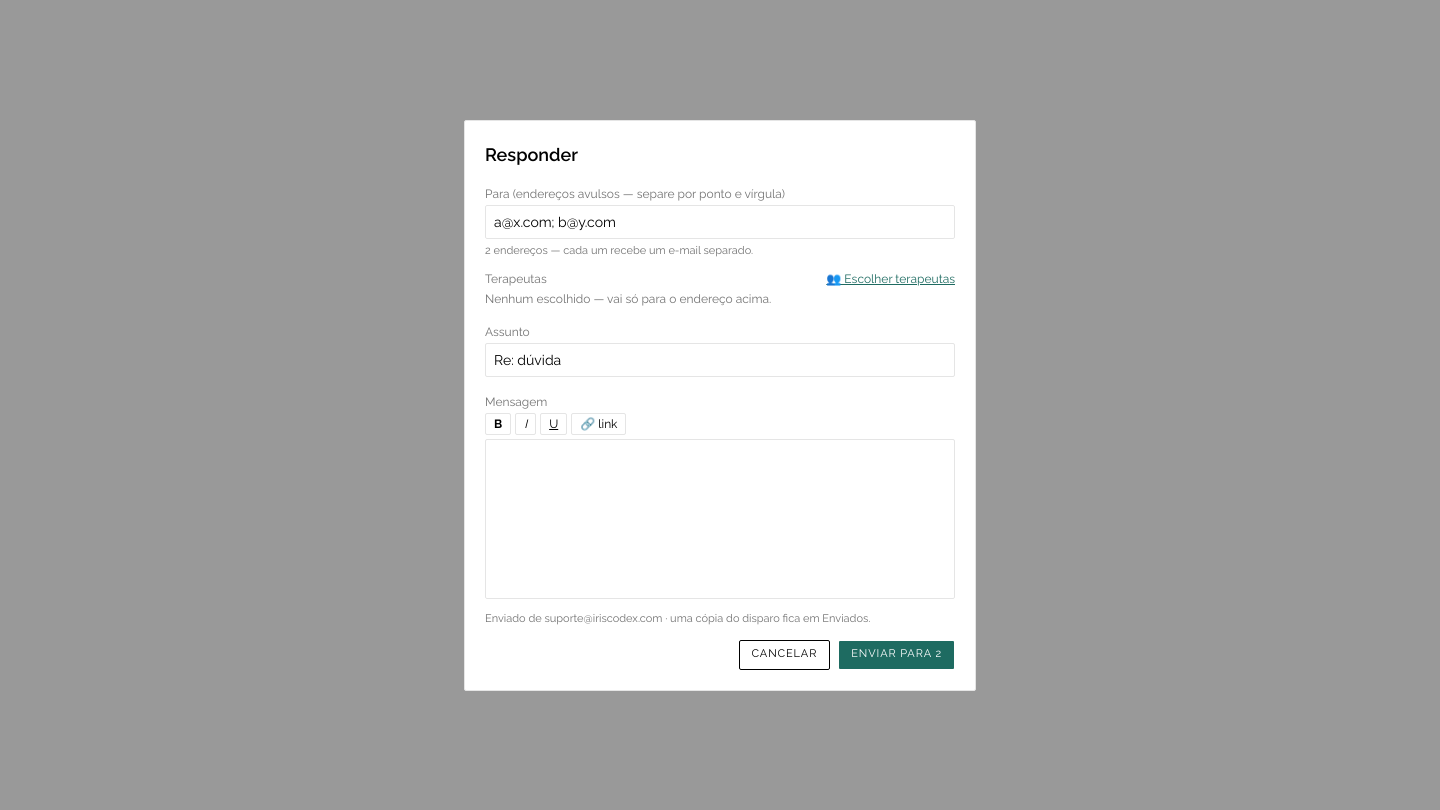
ComposeForm — vários endereços no campo Para › endereços avulsos somam com os terapeutas escolhidos
Expected: the text box is shown, [485,439,955,599]
Click the button "👥 Escolher terapeutas".
click(891, 279)  # box [826,271,955,287]
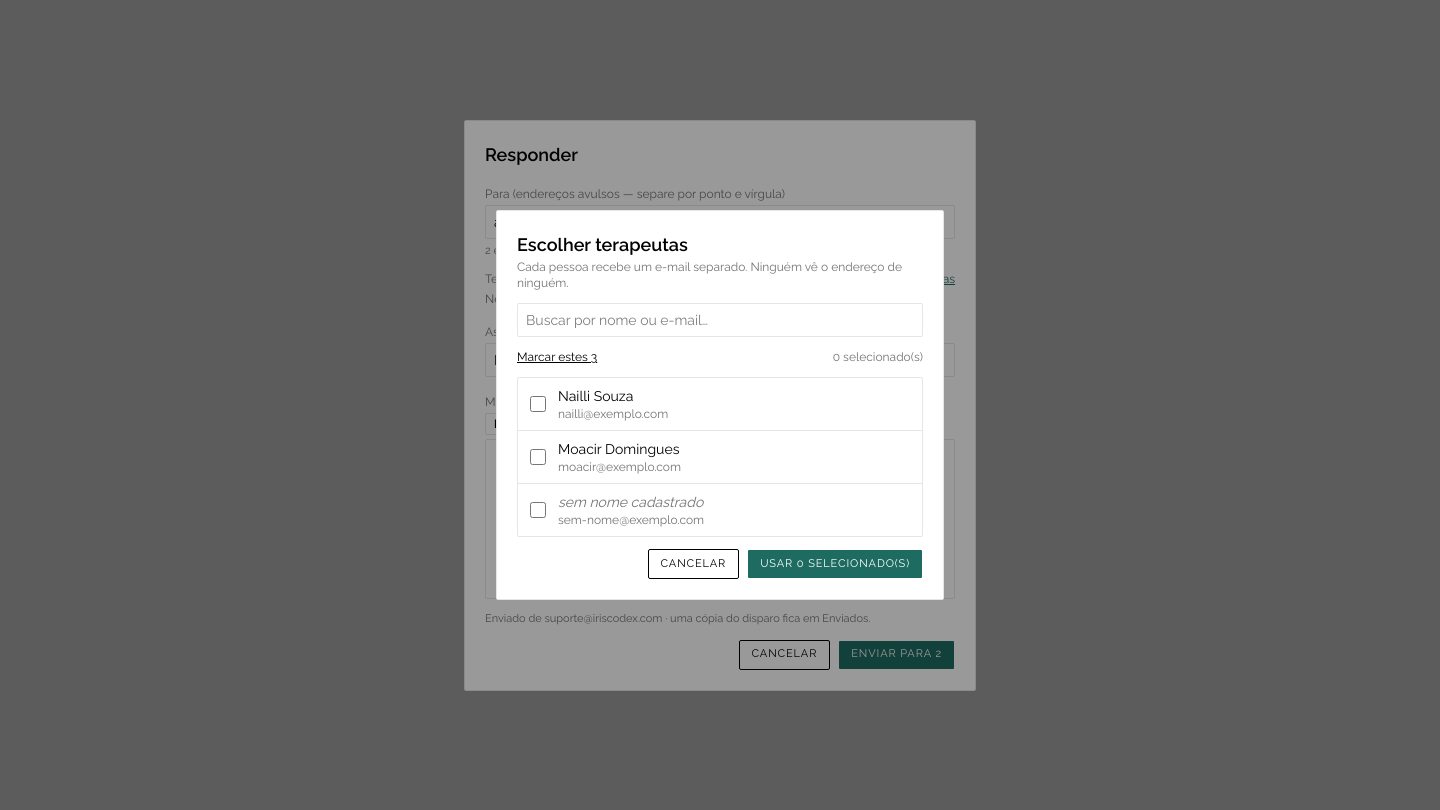
Result: the heading "Escolher terapeutas" is shown at [517,234,688,255]
Click the checkbox labelled "Nailli Souza nailli@exemplo.com".
click(538, 404)  # box [530,396,546,412]
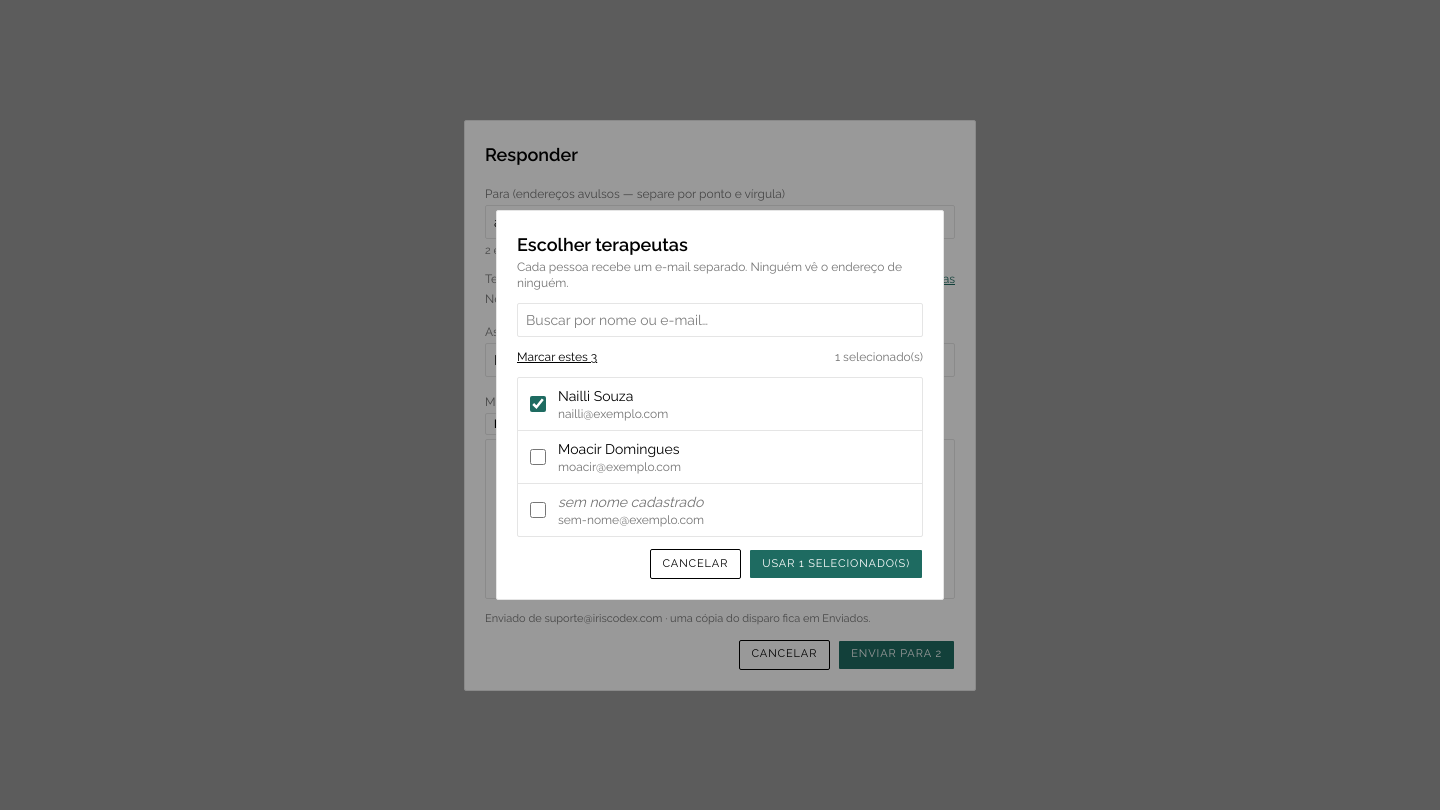
Click the button "Usar 1 selecionado(s)".
click(836, 564)  # box [749,549,923,579]
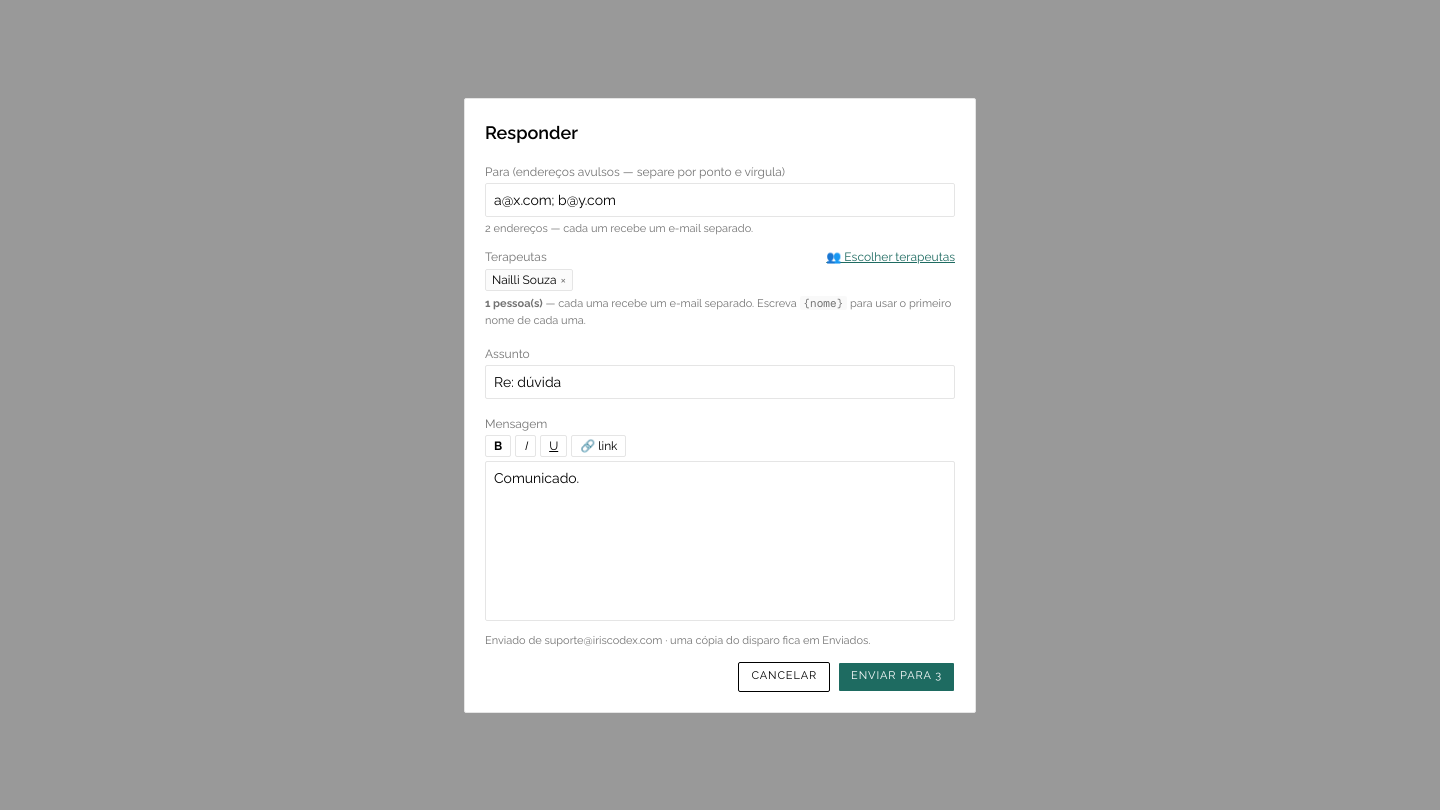
Result: the button "Enviar para 3" is shown at [838,662,955,692]
